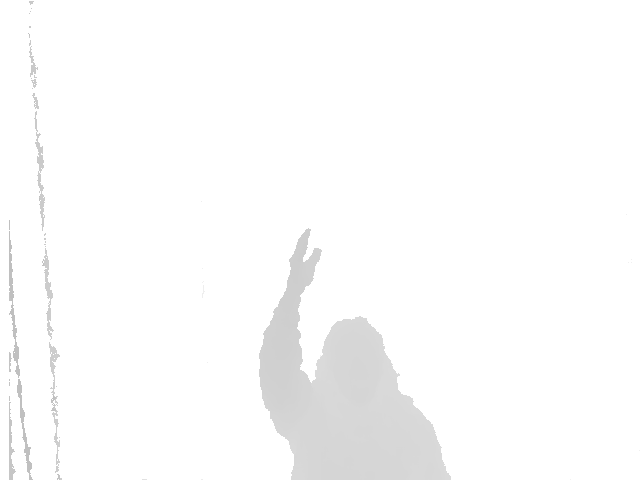hand: (285, 223, 324, 292)
head: (312, 315, 400, 410)
person: (255, 224, 455, 480)
